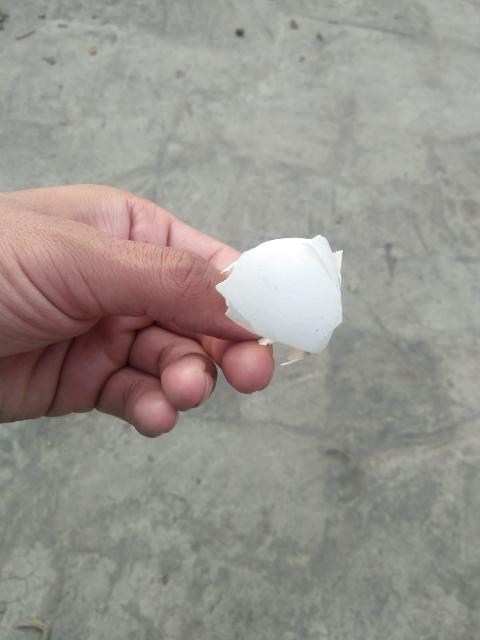Roto: (216, 233, 344, 355)
